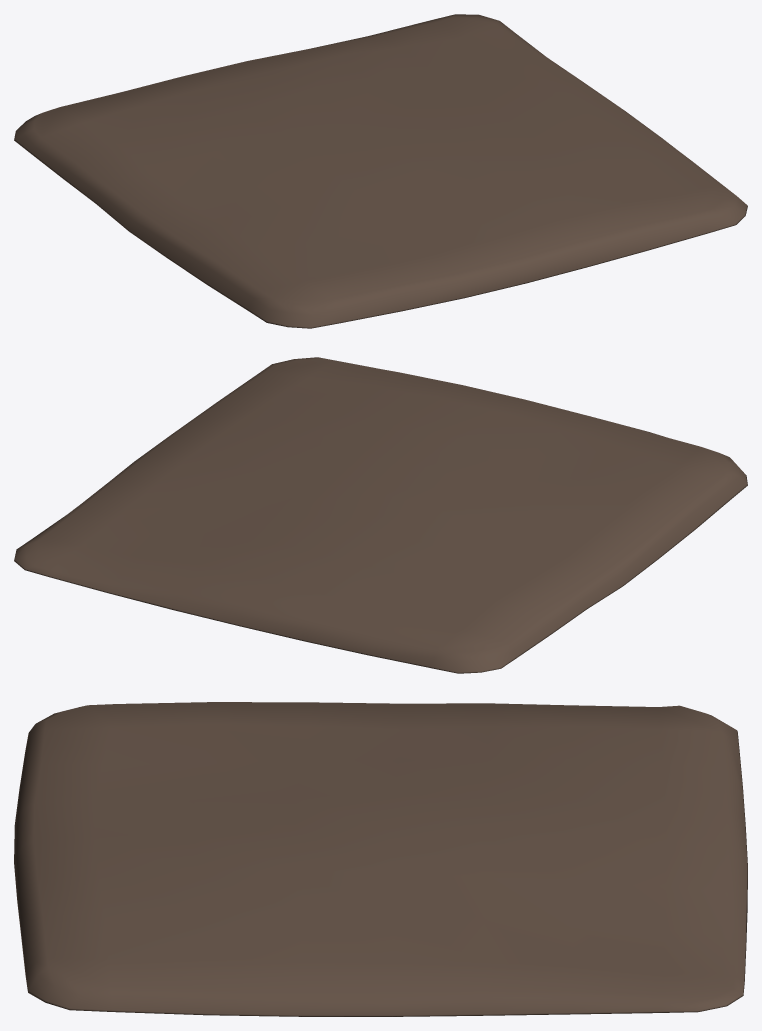
Rendered from field_new.fbx.
3 renders of one model, top to bottom at view 1: azimuth 30°, elevation 25°; view 2: azimuth 150°, elevation 25°; view 3: azimuth 270°, elevation 25°, orthographic. The views are drawn at different scales.
Visible parts, largest first — view 1: 立方体.005; view 2: 立方体.005; view 3: 立方体.005.
Boxes of the visible parts, x1,y1,x2,y2 form: 立方体.005: (14, 14, 747, 328); 立方体.005: (14, 357, 747, 673); 立方体.005: (14, 702, 747, 1016).
Bounding box in the file's own units: 70.84 × 4.18 × 72.82.
